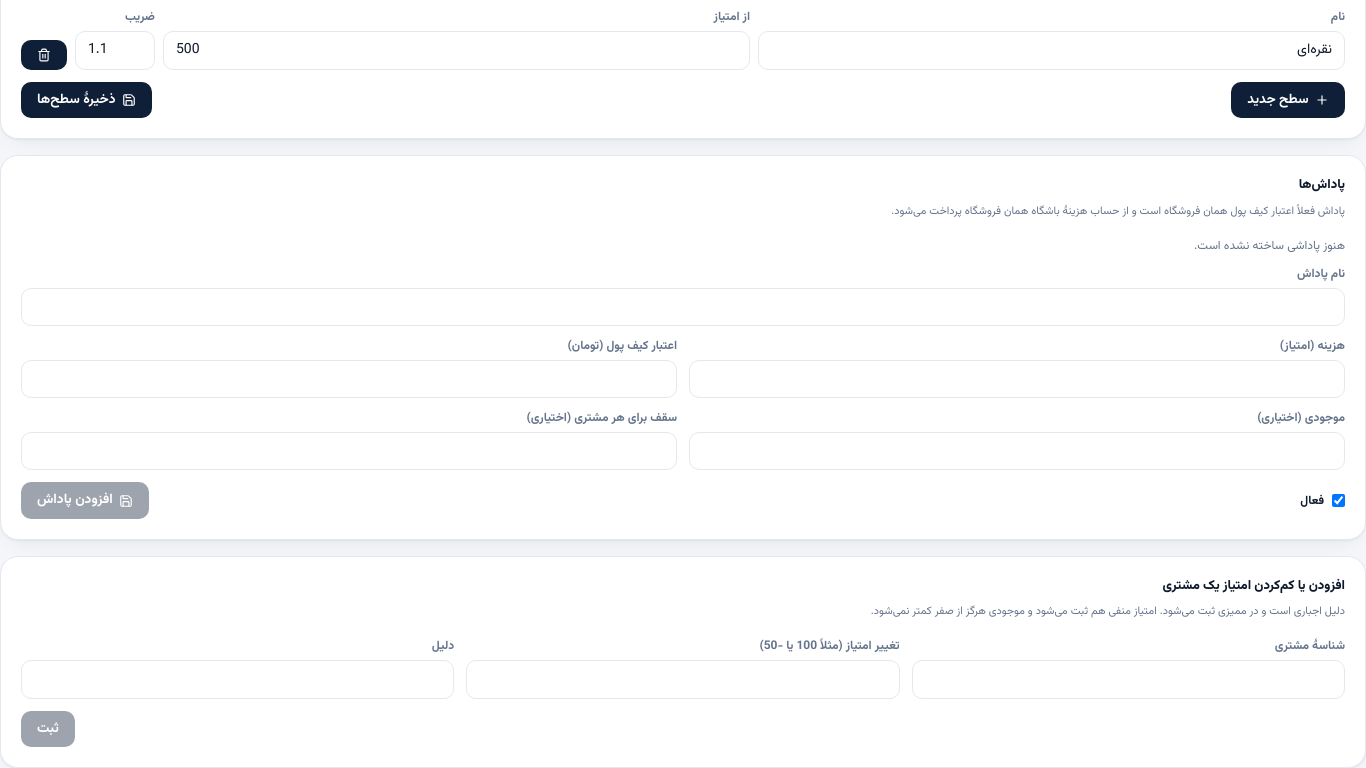
Scenario: admin per-store loyalty club › will not adjust points without a reason
The image size is (1366, 768).
(page scrolled)
In the field labelled "شناسهٔ مشتری": (1128, 679) [912, 660, 1345, 699], type "u1"
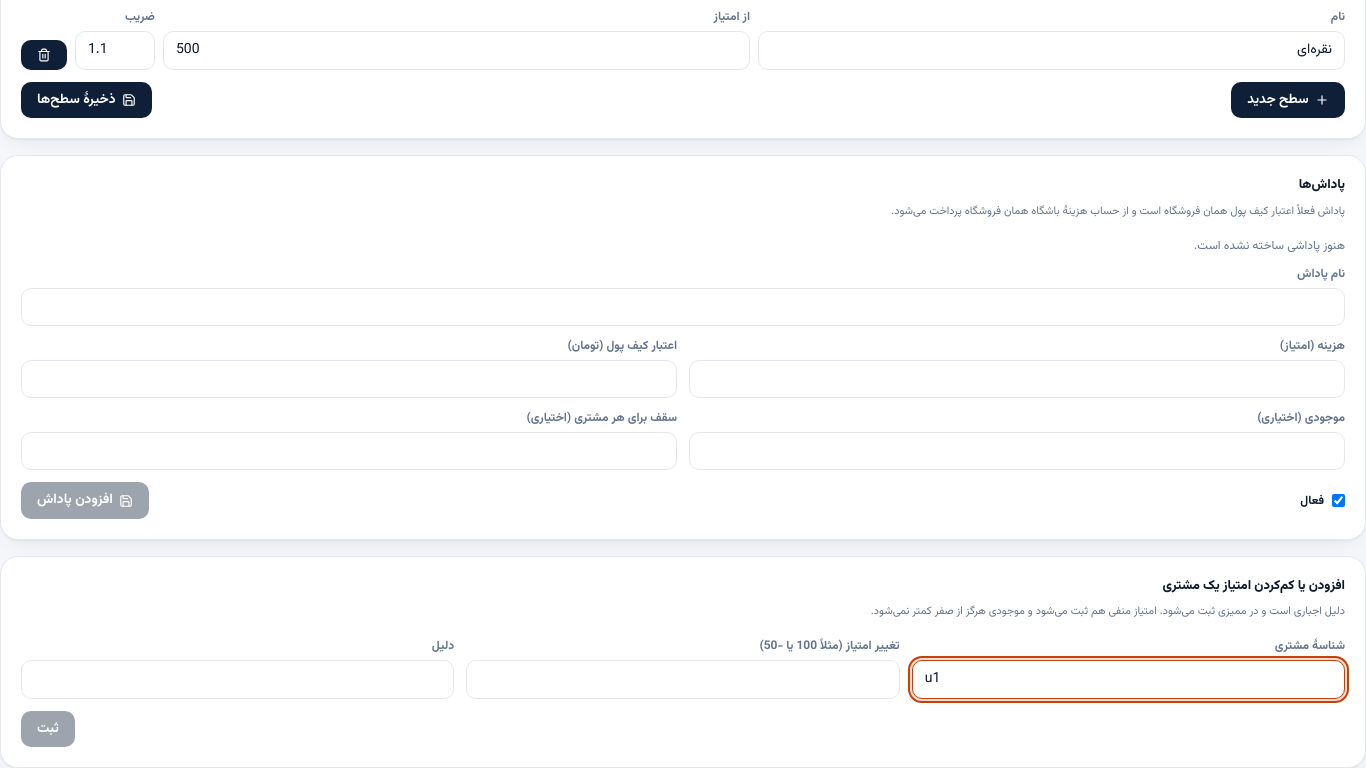
In the field labelled "تغییر امتیاز (مثلاً 100 یا -50)": (683, 679) [466, 660, 900, 699], type "100"
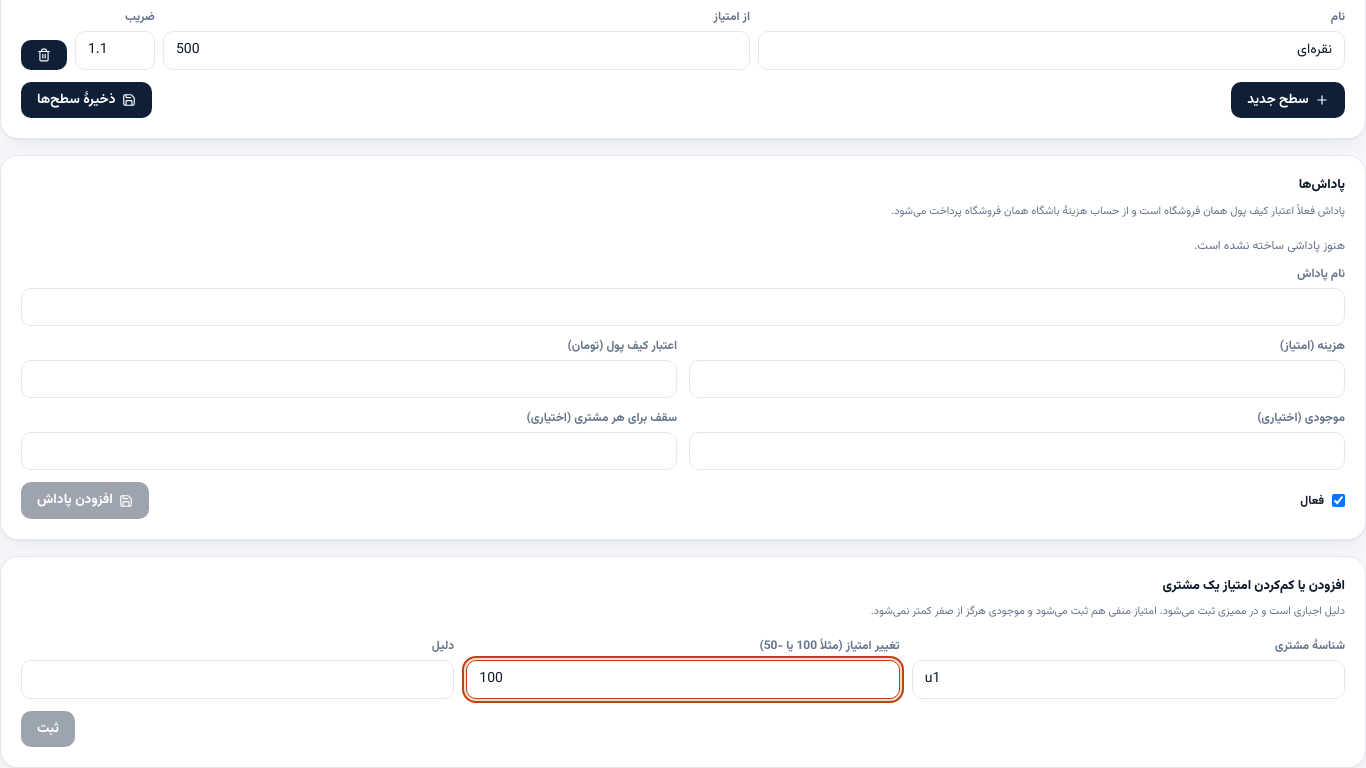
expect the button "ثبت" is disabled: met, box [21, 710, 75, 747]
In the field labelled "دلیل": (238, 679) [21, 660, 454, 699], type "هدیه"
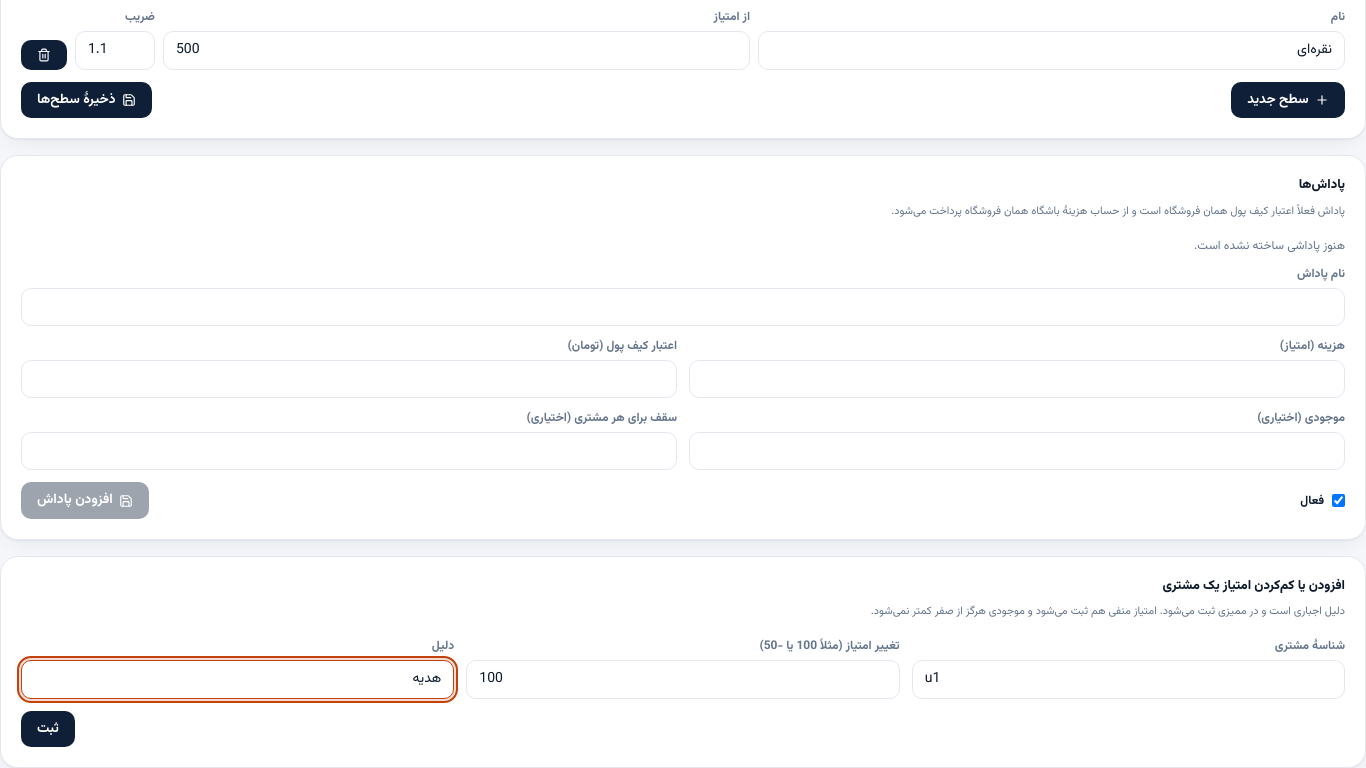
expect the button "ثبت" is enabled: met, box [21, 710, 75, 747]
